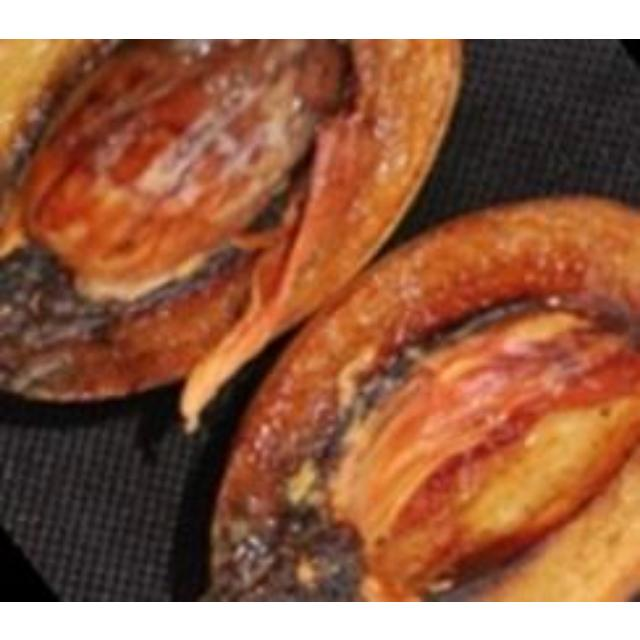damaged: (0, 38, 467, 437), (181, 193, 637, 599)
